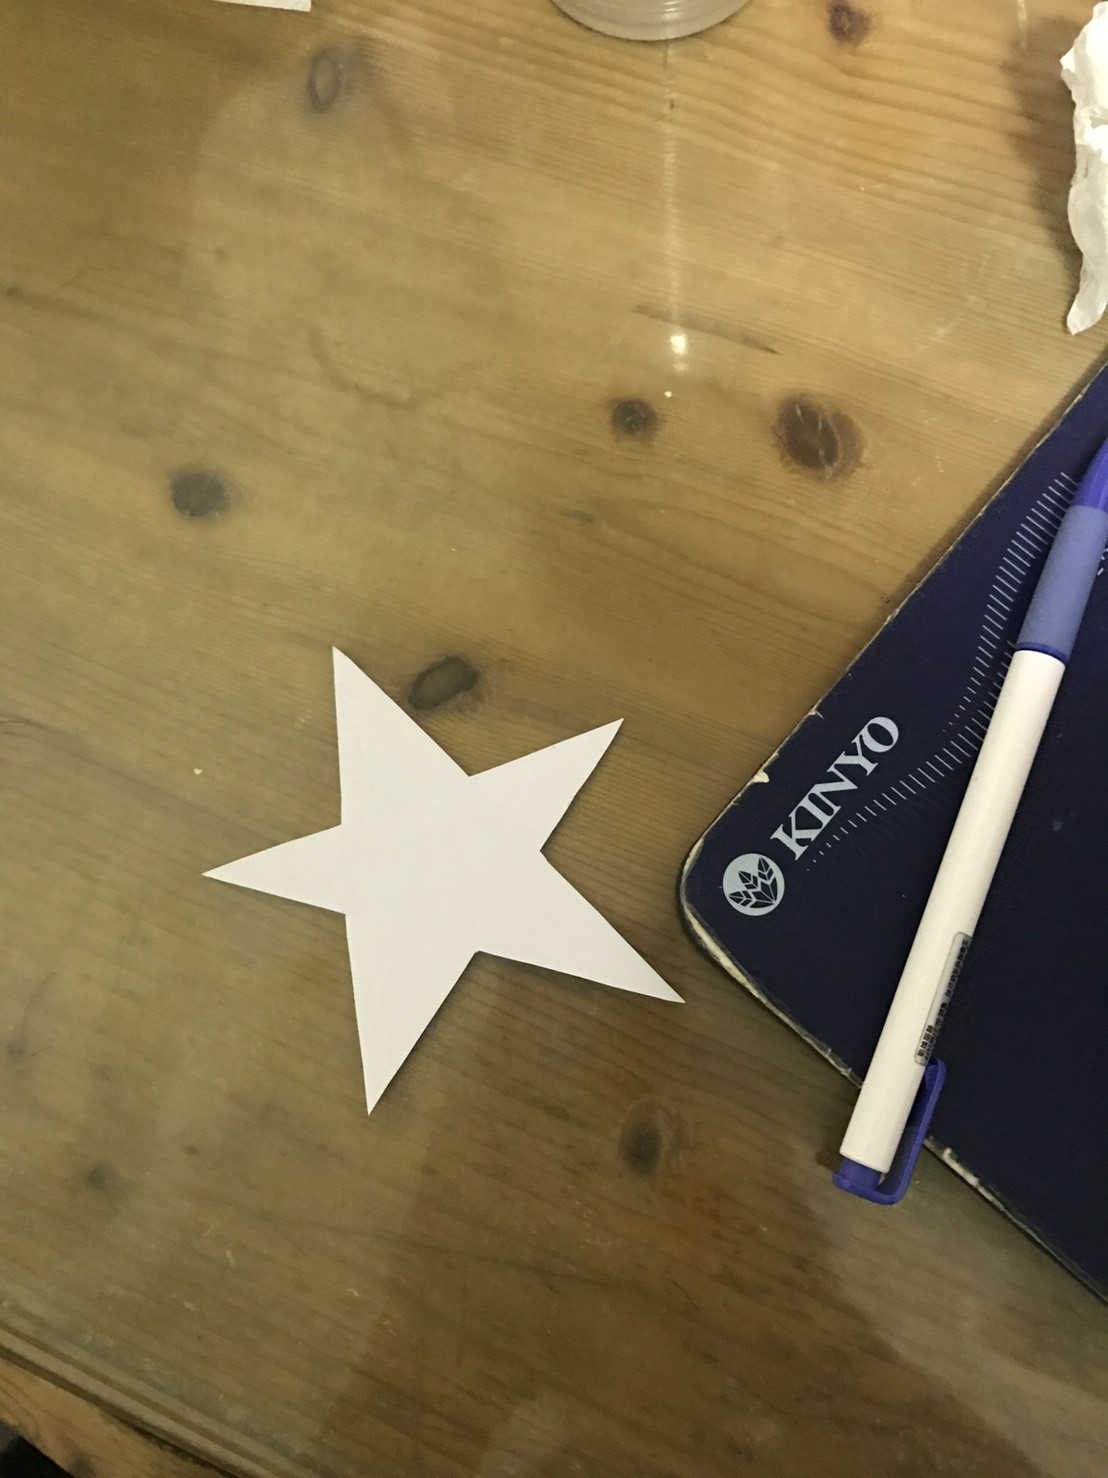star: (159, 616, 758, 1127)
